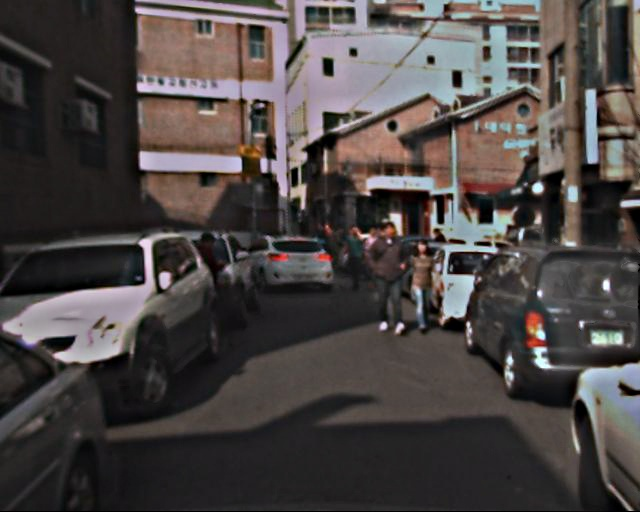person: (369, 222, 415, 334), (189, 232, 230, 331), (404, 242, 442, 334), (343, 226, 370, 293), (360, 226, 384, 285), (319, 221, 349, 262)
